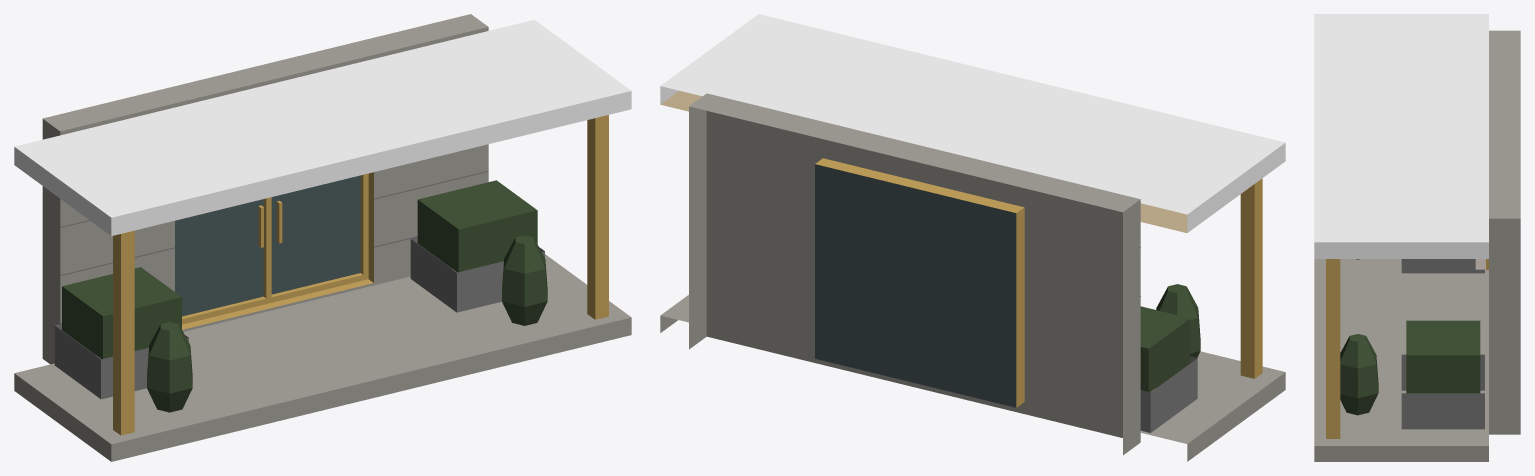
The model's file is entrance_close.fbx.
3 views of the same model, side by side, from view 1: azimuth 30°, elevation 25°; view 2: azimuth 150°, elevation 25°; view 3: azimuth 270°, elevation 25° (orthographic). The views are drawn at different scales.
Visible parts, largest first — view 1: a2019/0/entrance_close; view 2: a2019/0/entrance_close; view 3: a2019/0/entrance_close.
Boxes of the visible parts, x1,y1,x2,y2 form: a2019/0/entrance_close: (14,14,631,461); a2019/0/entrance_close: (660,14,1285,461); a2019/0/entrance_close: (1314,14,1520,461).
Size of the model in its own units: 6.8 by 3.1 by 2.6.
